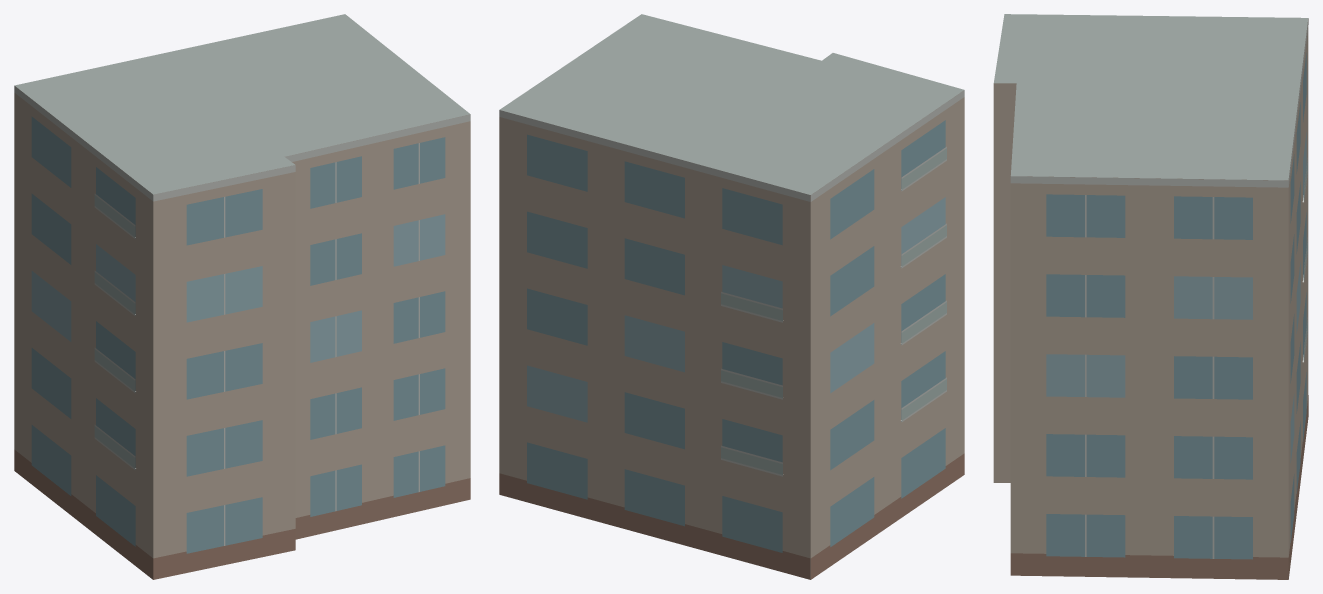
Rendered from survey-upis-33037889.glb.
3 renders of one model, left to right at view 1: azimuth 30°, elevation 25°; view 2: azimuth 150°, elevation 25°; view 3: azimuth 270°, elevation 25°, orthographic. The views are drawn at different scales.
Parts seen in each view (by area): view 1: survey-upis-33037889.tmp; view 2: survey-upis-33037889.tmp; view 3: survey-upis-33037889.tmp.
Part boxes in pixels (bbox=[...]): survey-upis-33037889.tmp: bbox=[14, 14, 470, 579]; survey-upis-33037889.tmp: bbox=[499, 14, 964, 579]; survey-upis-33037889.tmp: bbox=[993, 14, 1308, 579].
Size of the model in its own units: 12.07 by 13.5 by 9.65.
